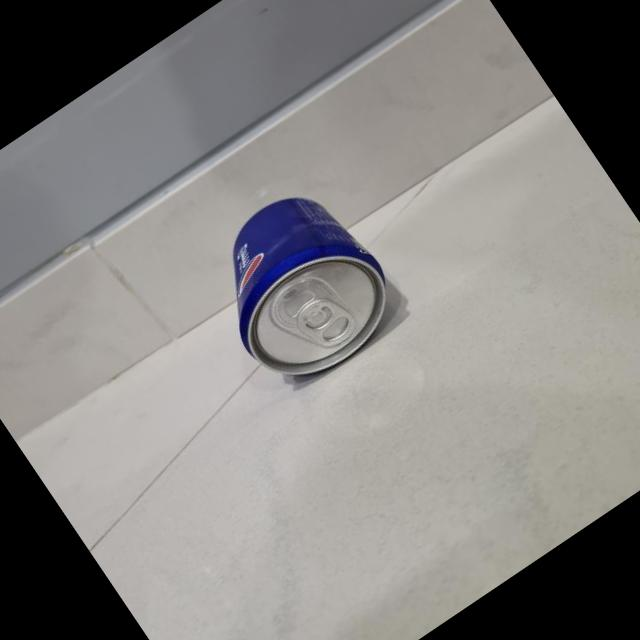Kaleng: (183, 169, 414, 403)
